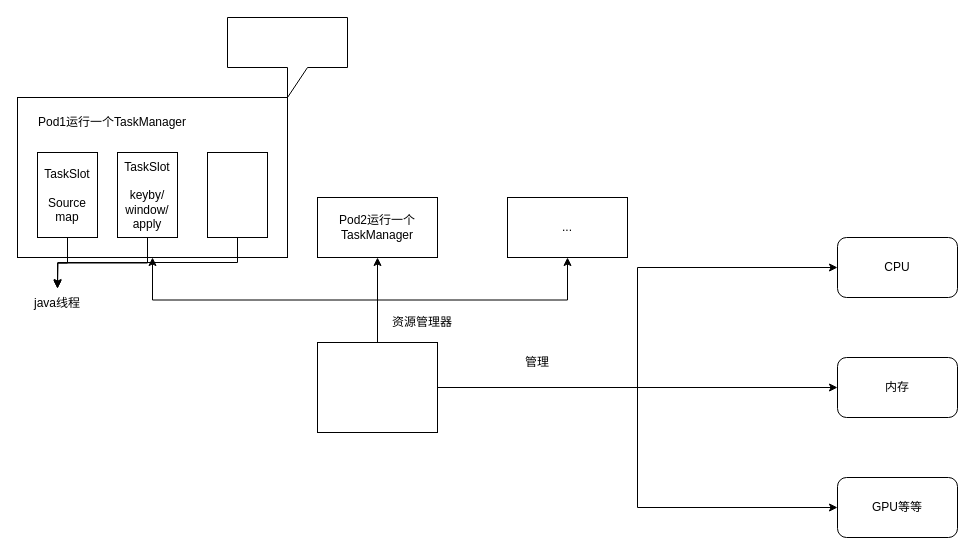
The diagram is 975 pixels wide and 555 high, and some of its shapes have lost their labels. Each missing label, with the box of its shape:
Java进程: (226, 16, 348, 98)
TaskSlot sink: (206, 152, 268, 238)
集群资源（管理硬件资源）-yarn k8s: (316, 342, 438, 432)
